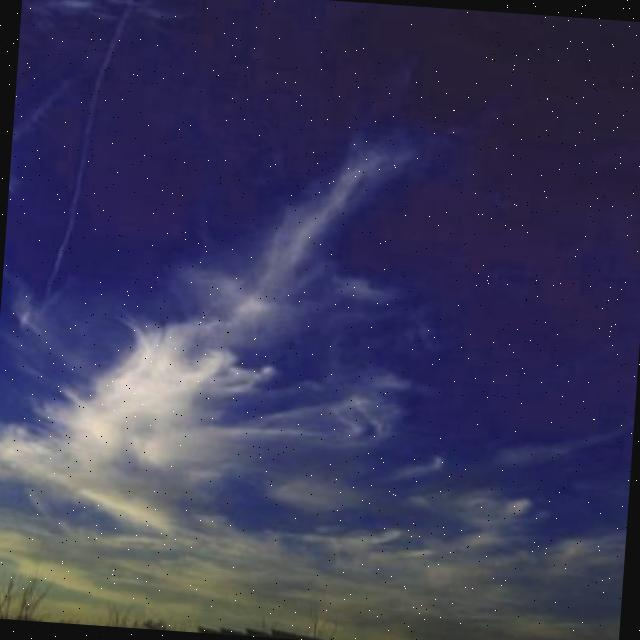Ci: (1, 66, 469, 579)
